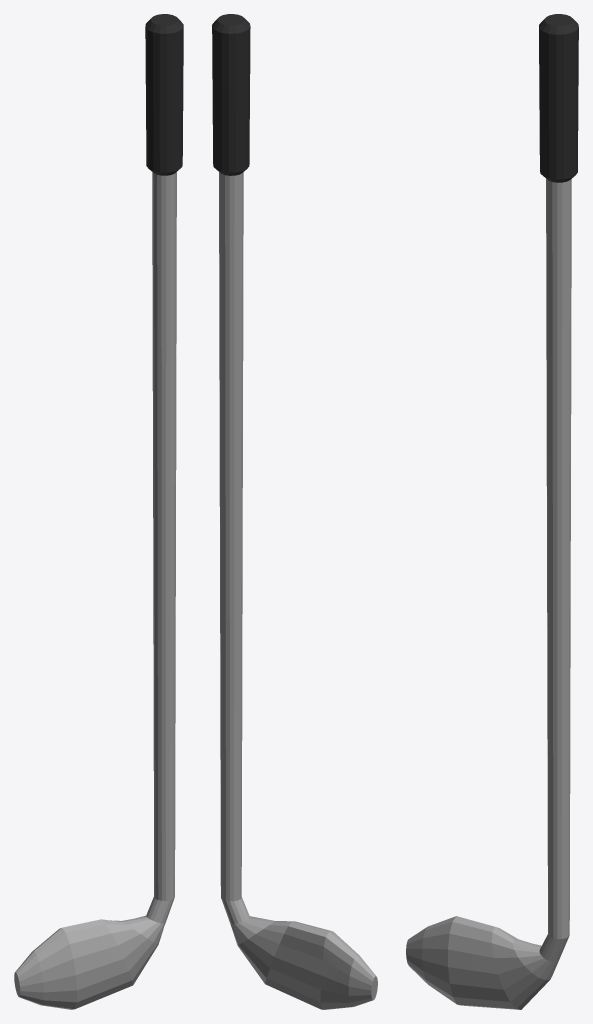
The model's file is golf_bat_bin.fbx.
3 renders of one model, left to right at view 1: azimuth 30°, elevation 25°; view 2: azimuth 150°, elevation 25°; view 3: azimuth 330°, elevation 25°, orthographic. The views are drawn at different scales.
Parts seen in each view (by area): view 1: AssetsPack_01_NAS_golf_bats, Handle_007; view 2: AssetsPack_01_NAS_golf_bats, Handle_007; view 3: AssetsPack_01_NAS_golf_bats, Handle_007.
Part boxes in pixels (<box>): AssetsPack_01_NAS_golf_bats: <box>14,172,176,1009</box>; Handle_007: <box>145,14,183,175</box>; AssetsPack_01_NAS_golf_bats: <box>219,172,377,1009</box>; Handle_007: <box>212,14,250,175</box>; AssetsPack_01_NAS_golf_bats: <box>406,179,571,1009</box>; Handle_007: <box>539,14,578,182</box>.
Bounding box in the file's own units: 22.07 × 125 × 4.53.
